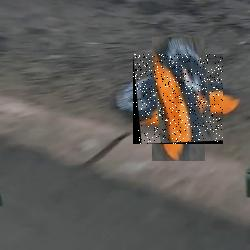plastic: (133, 54, 223, 144)
